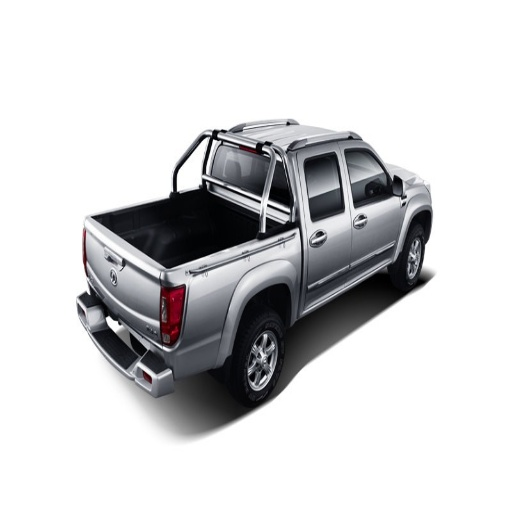back_bumper: (159, 323, 209, 372)
back_right_door: (296, 139, 348, 303)
trunk: (101, 234, 294, 366)
